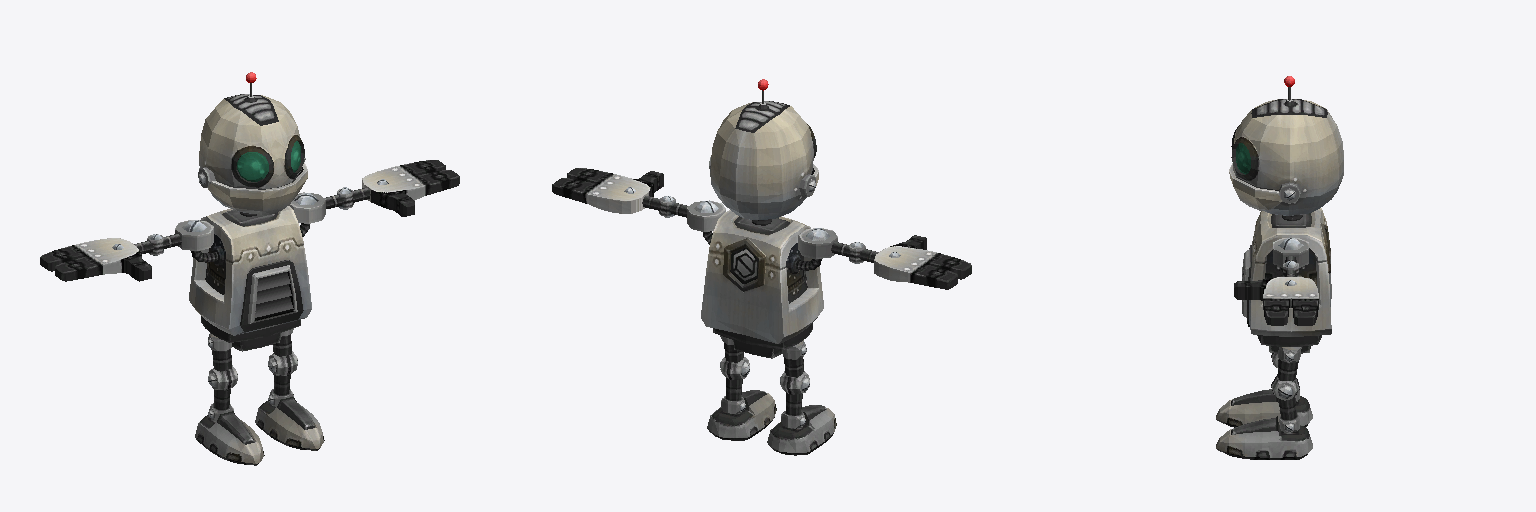
3 renders of one model, left to right at view 1: azimuth 30°, elevation 25°; view 2: azimuth 150°, elevation 25°; view 3: azimuth 270°, elevation 25°, orthographic.
Visible parts, largest first — view 1: Mesh0; view 2: Mesh0; view 3: Mesh0.
Boxes of the visible parts, x1=… form: Mesh0: x1=40, y1=72, x2=459, y2=465; Mesh0: x1=552, y1=79, x2=971, y2=455; Mesh0: x1=1216, y1=76, x2=1343, y2=459.
Bounding box in the file's own units: 18.98 × 16.37 × 5.31.
Materials: 1 (1 with a texture image).